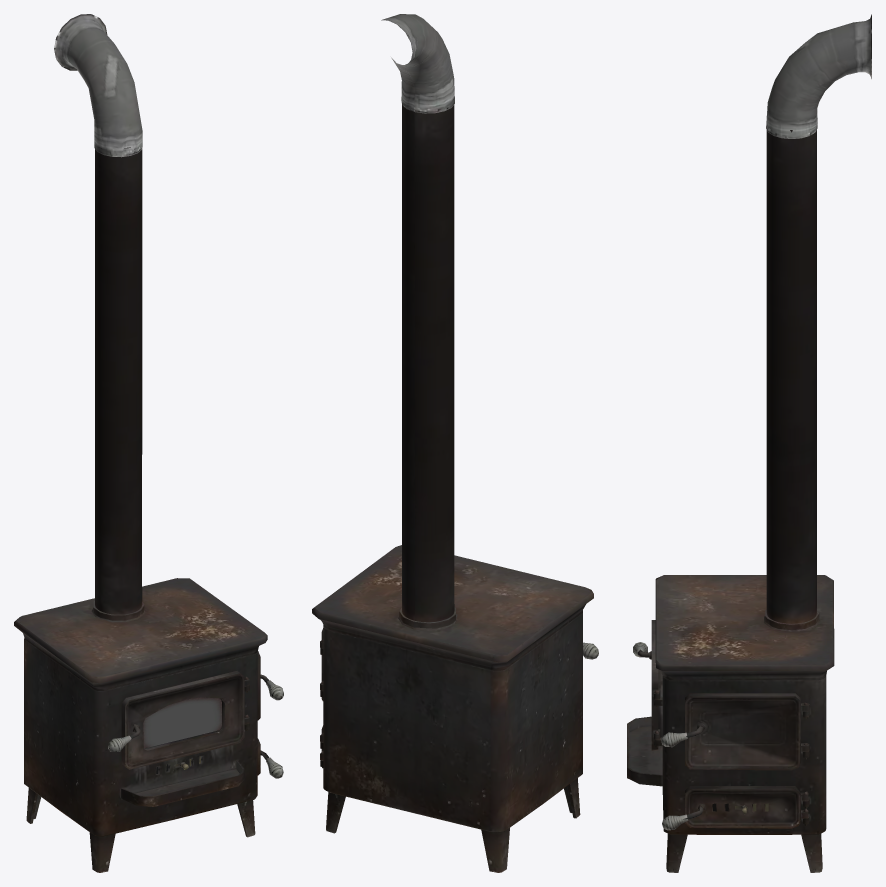
Rendered from apartment_wood_stove.glb.
The picture shows the model from 3 angles, left to right: view 1: azimuth 30°, elevation 25°; view 2: azimuth 150°, elevation 25°; view 3: azimuth 270°, elevation 25°; orthographic projection. The views are drawn at different scales.
Parts seen in each view (by area): view 1: apartment_wood_stove_LOD0; view 2: apartment_wood_stove_LOD0; view 3: apartment_wood_stove_LOD0.
Part boxes in pixels (box(x1,y1,x2,y2)): apartment_wood_stove_LOD0: box(14, 14, 283, 872); apartment_wood_stove_LOD0: box(312, 14, 598, 872); apartment_wood_stove_LOD0: box(627, 14, 871, 872).
Size of the model in its own units: 1.12 by 4.2 by 1.14.
2 materials, 2 textured.
